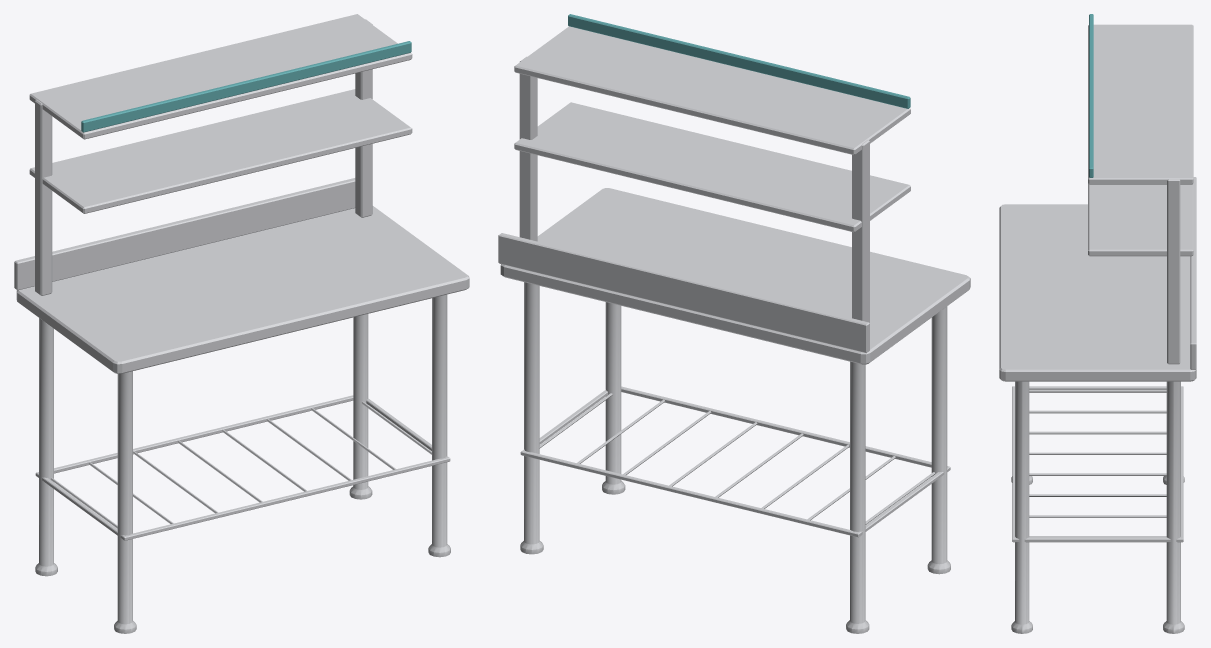
The model's file is fast-food-and-drive-thru-counter-back-shelf-unit-c8bea50b__16119.glb.
3 views of the same model, side by side, from view 1: azimuth 30°, elevation 25°; view 2: azimuth 150°, elevation 25°; view 3: azimuth 270°, elevation 25° (orthographic). The views are drawn at different scales.
Parts seen in each view (by area): view 1: counter-back-shelf-unit; view 2: counter-back-shelf-unit; view 3: counter-back-shelf-unit.
Boxes of the visible parts, left/top/right/bottom form: counter-back-shelf-unit: left=14, top=14, right=469, bottom=633; counter-back-shelf-unit: left=498, top=14, right=970, bottom=633; counter-back-shelf-unit: left=999, top=14, right=1196, bottom=633.
Bounding box in the file's own units: 1.2 × 1.56 × 0.6.
